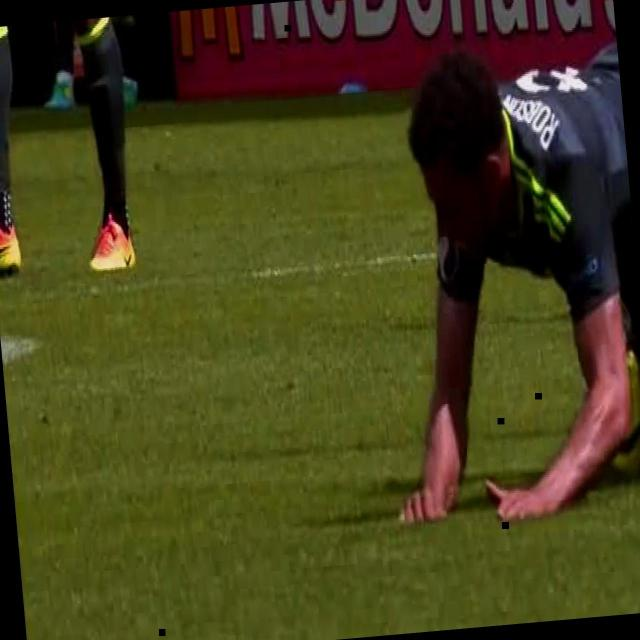player-white: (359, 26, 640, 534), (546, 0, 640, 462), (0, 16, 143, 302)
